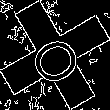O_NE: (22, 23, 88, 87)
